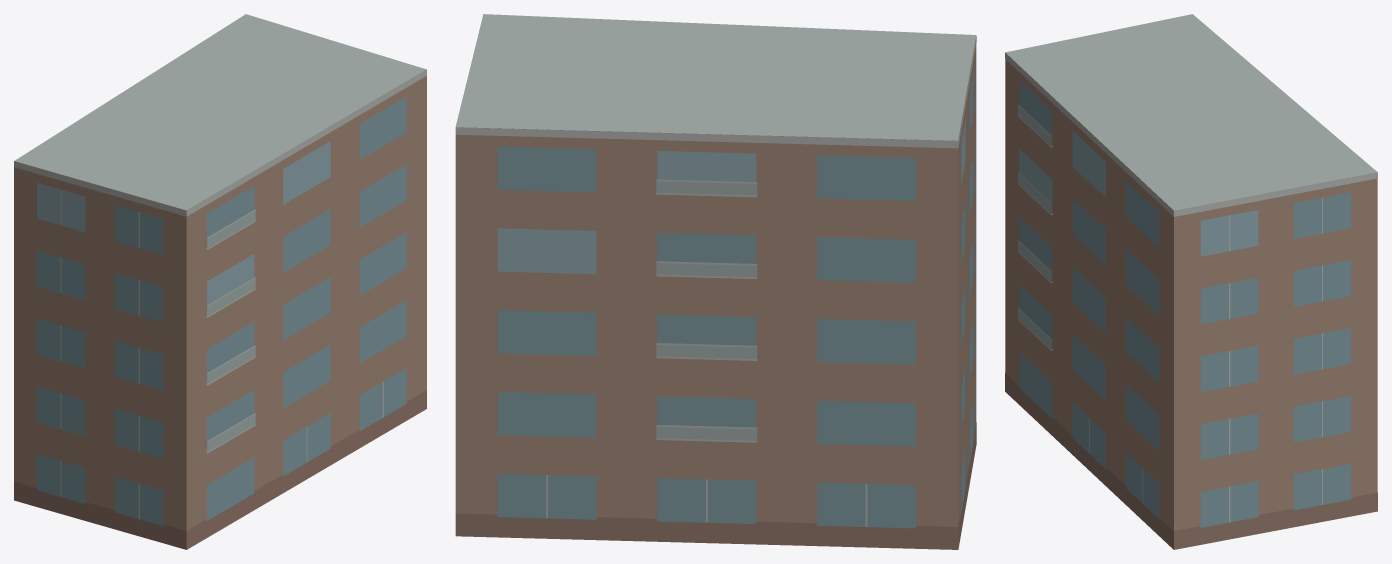
File: survey-upis-32740667.glb
The picture shows the model from 3 angles, left to right: view 1: azimuth 30°, elevation 25°; view 2: azimuth 150°, elevation 25°; view 3: azimuth 270°, elevation 25°; orthographic projection. The views are drawn at different scales.
Visible parts, largest first — view 1: survey-upis-32740667.tmp; view 2: survey-upis-32740667.tmp; view 3: survey-upis-32740667.tmp.
Part boxes in pixels (x1,y1,x2,y2): survey-upis-32740667.tmp: (14,14,426,549); survey-upis-32740667.tmp: (455,14,976,549); survey-upis-32740667.tmp: (1005,14,1377,549).
Size of the model in its own units: 16.55 by 13.3 by 13.25.
